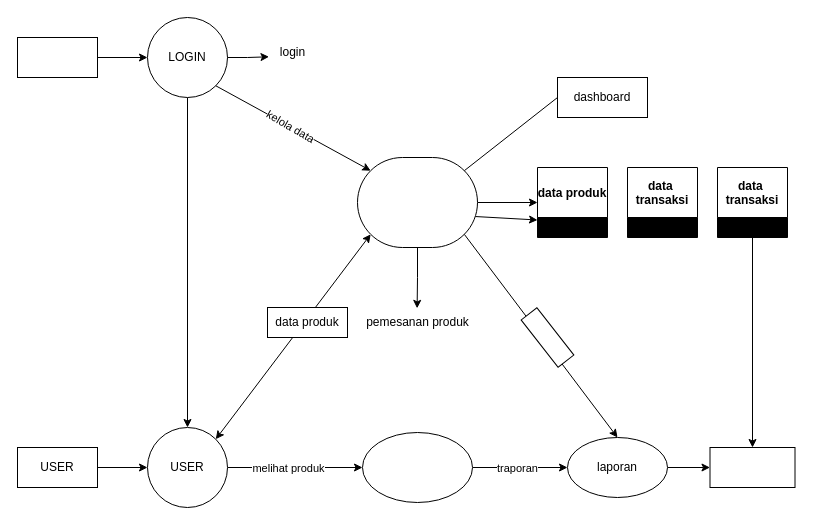
The diagram is 813 pixels wide and 525 high, and some of its shapes have lost their labels. The box of each missing label's shape, as (x1, y1, x2, y2) in pixels:
ADMIN: (16, 36, 98, 78)
file excel: (709, 446, 795, 488)
pembayaran: (362, 432, 472, 502)
pengelagaan data: (356, 156, 478, 248)
transaksi: (520, 306, 574, 368)
